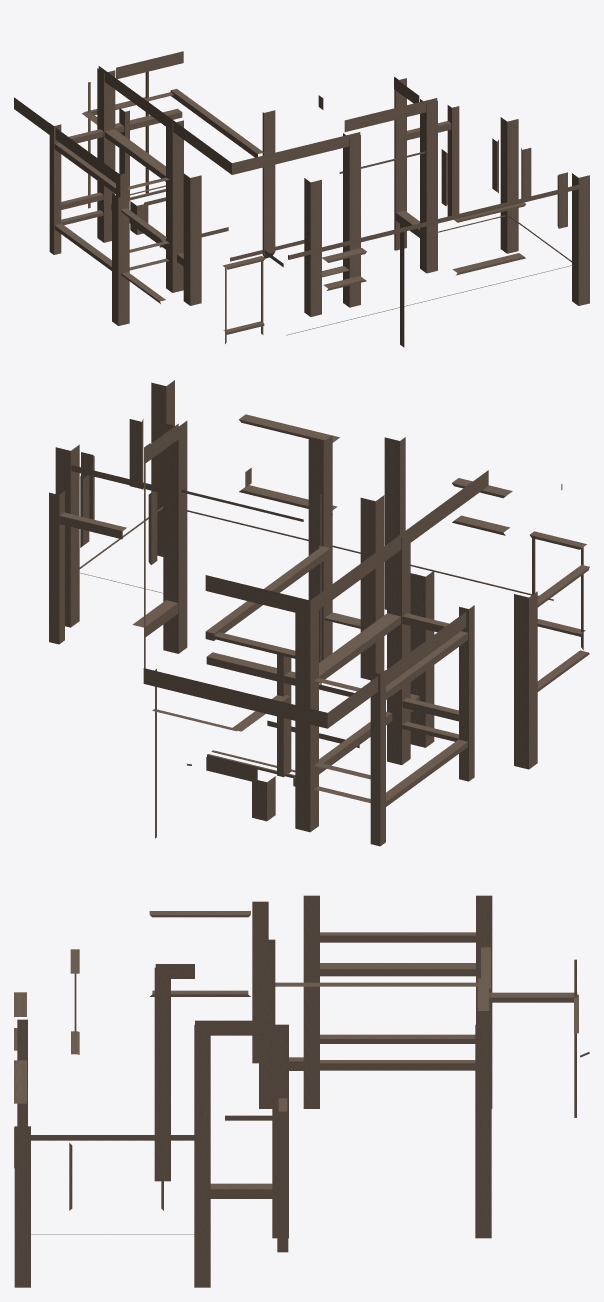
Rendered from kd_stage_135ded_4_34_exterior.glb.
The picture shows the model from 3 angles, top to bottom: view 1: azimuth 30°, elevation 25°; view 2: azimuth 150°, elevation 25°; view 3: azimuth 270°, elevation 25°; orthographic projection. The views are drawn at different scales.
Visible parts, largest first — view 1: kd_stage_135ded_4_34_exterior; view 2: kd_stage_135ded_4_34_exterior; view 3: kd_stage_135ded_4_34_exterior.
Boxes of the visible parts, x1=… form: kd_stage_135ded_4_34_exterior: x1=14, y1=51, x2=589, y2=347; kd_stage_135ded_4_34_exterior: x1=49, y1=380, x2=589, y2=846; kd_stage_135ded_4_34_exterior: x1=14, y1=895, x2=589, y2=1287.
Bounding box in the file's own units: 9.98 × 4.39 × 10.51.
1 material, 1 textured.
